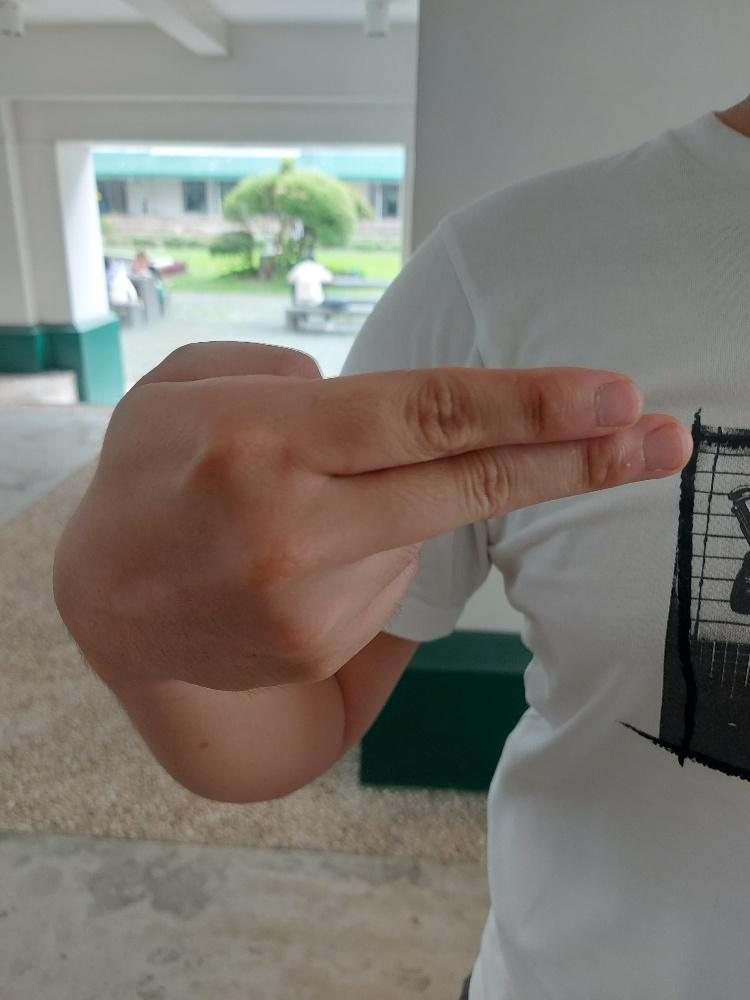h: (46, 336, 695, 699)
